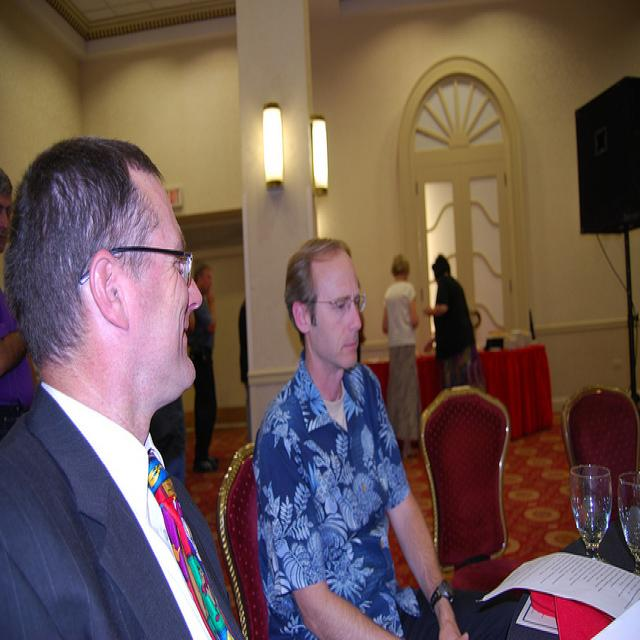chair: (422, 386, 516, 595), (558, 384, 640, 525), (216, 443, 271, 631)
dining table: (364, 335, 553, 440), (509, 519, 634, 640)
